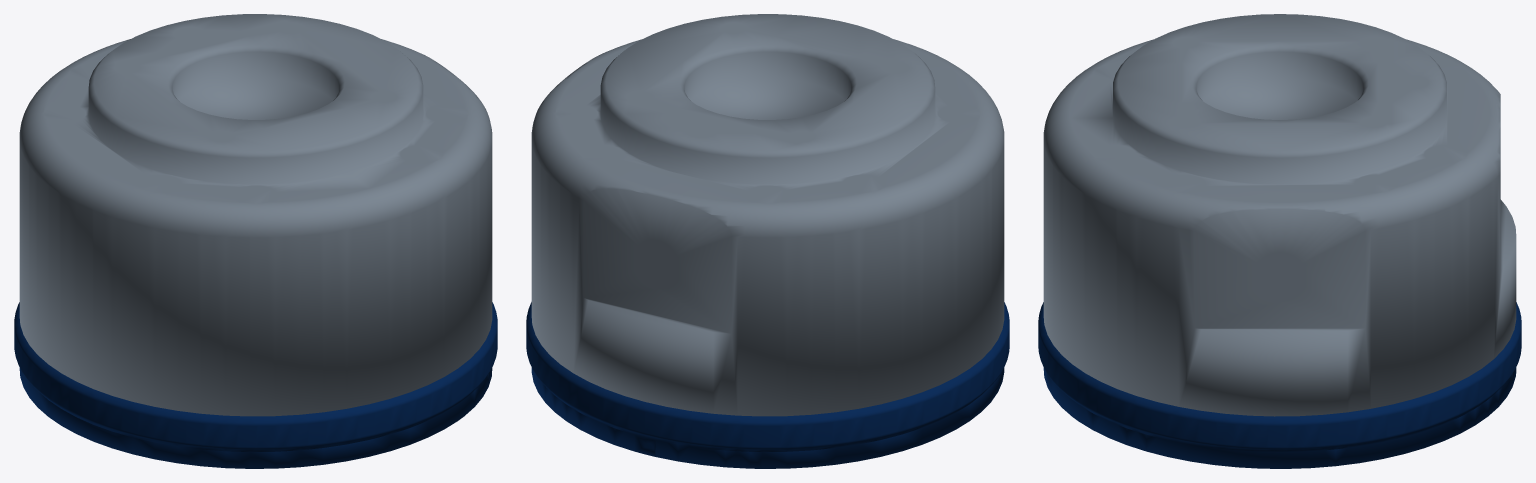
Rendered from Link_6_Flange.dae.
3 views of the same model, side by side, from view 1: azimuth 30°, elevation 25°; view 2: azimuth 150°, elevation 25°; view 3: azimuth 270°, elevation 25° (orthographic).
Bounding box in the file's own units: 0.091 × 0.091 × 0.0595.
